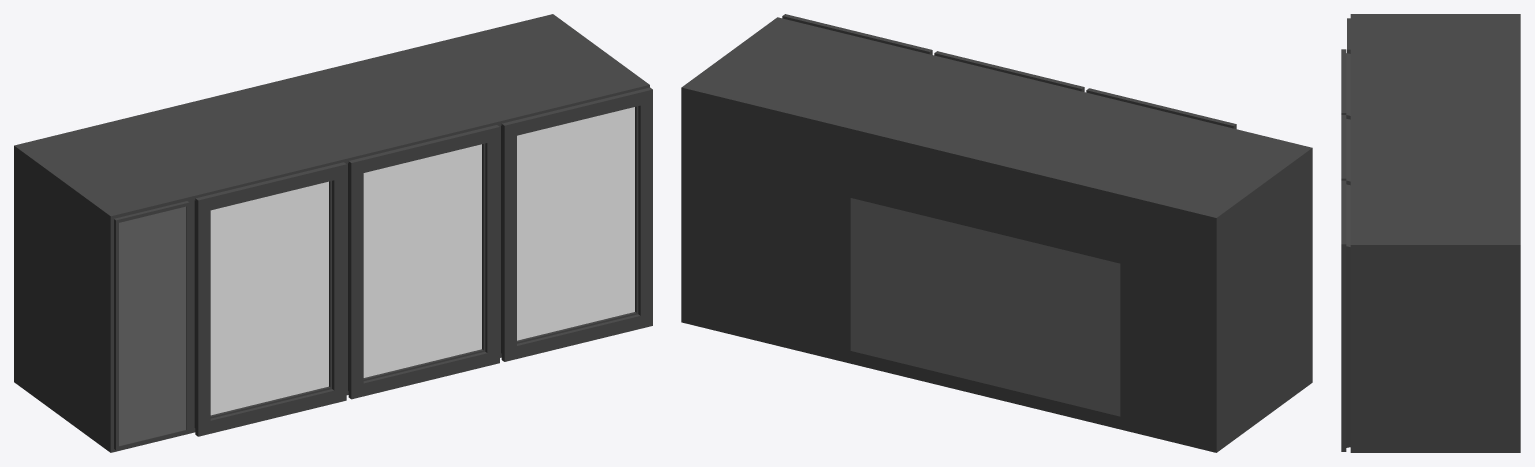
The model's file is Multi Mini Fridge.fbx.
3 renders of one model, left to right at view 1: azimuth 30°, elevation 25°; view 2: azimuth 150°, elevation 25°; view 3: azimuth 270°, elevation 25°, orthographic. The views are drawn at different scales.
Visible parts, largest first — view 1: Multi Mini Fridge; view 2: Multi Mini Fridge; view 3: Multi Mini Fridge.
Part boxes in pixels (x1,y1,x2,y2): Multi Mini Fridge: (14,14,652,452); Multi Mini Fridge: (681,14,1312,452); Multi Mini Fridge: (1341,14,1520,452).
Size of the model in its own units: 233 by 97.88 by 76.62.
Materials: 2 (1 with a texture image).
